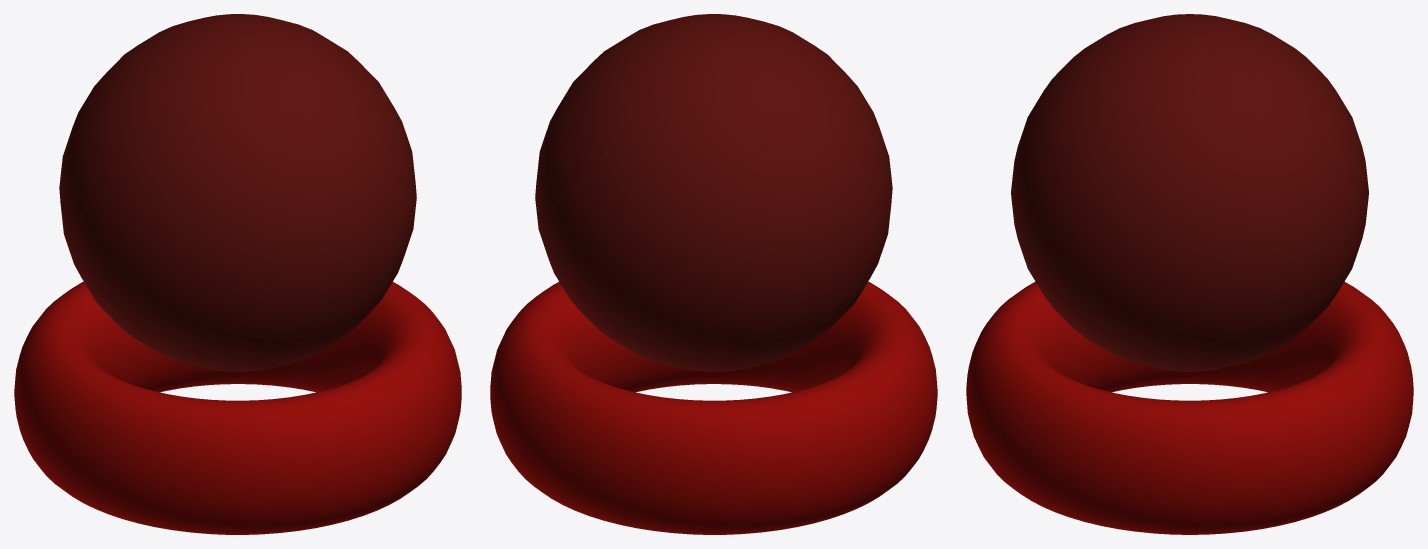
The model's file is ring.gltf.
3 renders of one model, left to right at view 1: azimuth 30°, elevation 25°; view 2: azimuth 150°, elevation 25°; view 3: azimuth 270°, elevation 25°, orthographic.
Visible parts, largest first — view 1: ball, ring 1; view 2: ball, ring 1; view 3: ball, ring 1.
Part boxes in pixels (x1=…): ball: x1=59, y1=14, x2=416, y2=371; ring 1: x1=14, y1=281, x2=461, y2=534; ball: x1=535, y1=14, x2=892, y2=371; ring 1: x1=490, y1=281, x2=937, y2=534; ball: x1=1011, y1=14, x2=1368, y2=371; ring 1: x1=966, y1=281, x2=1413, y2=534.
Size of the model in its own units: 2.5 by 2.63 by 2.5.
